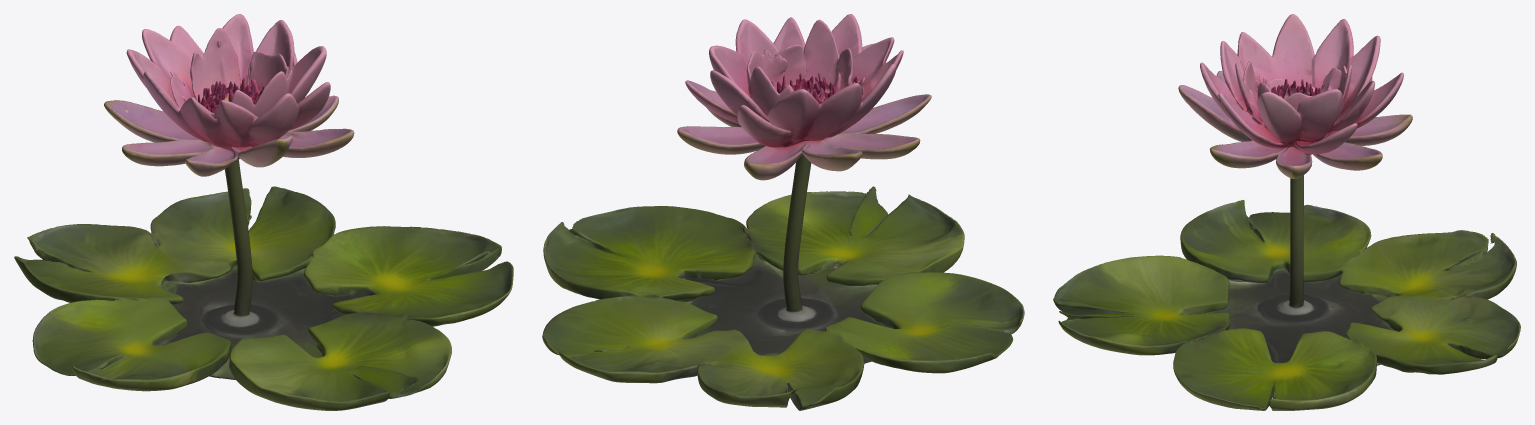
Rendered from nature-water-lily.glb.
3 renders of one model, left to right at view 1: azimuth 30°, elevation 25°; view 2: azimuth 150°, elevation 25°; view 3: azimuth 270°, elevation 25°, orthographic. The views are drawn at different scales.
Visible parts, largest first — view 1: tripo_node_e13a8874-0fa2-48df-9daf-6b6d9dfc5b67; view 2: tripo_node_e13a8874-0fa2-48df-9daf-6b6d9dfc5b67; view 3: tripo_node_e13a8874-0fa2-48df-9daf-6b6d9dfc5b67.
Boxes of the visible parts, <box> form: tripo_node_e13a8874-0fa2-48df-9daf-6b6d9dfc5b67: <box>14,14,513,410</box>; tripo_node_e13a8874-0fa2-48df-9daf-6b6d9dfc5b67: <box>542,14,1024,410</box>; tripo_node_e13a8874-0fa2-48df-9daf-6b6d9dfc5b67: <box>1053,14,1520,410</box>.
Size of the model in its own units: 0.3334 by 0.2 by 0.3248.
1 material, 1 textured.
